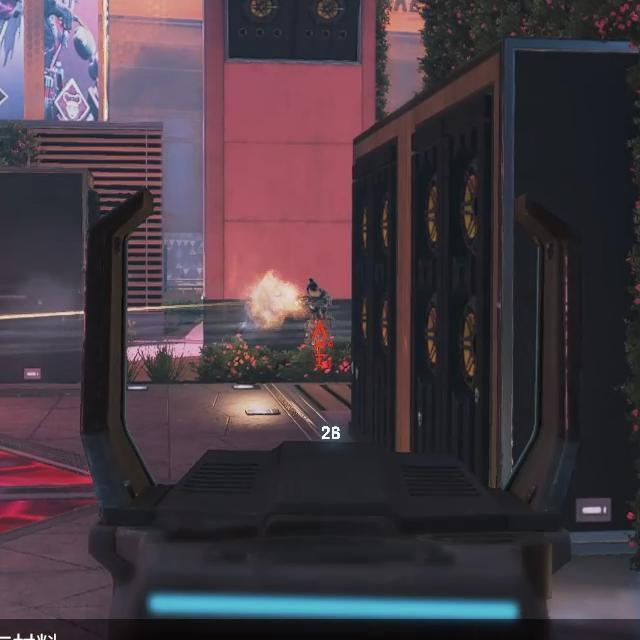avatar: (301, 275, 333, 323)
